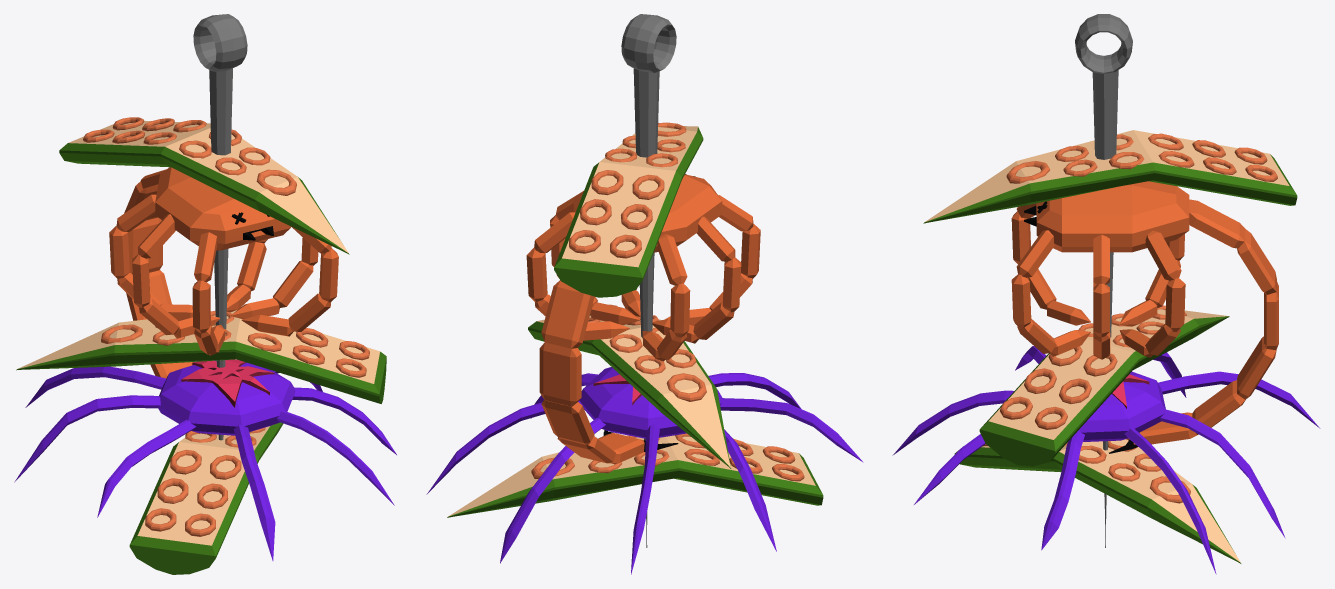
The model's file is SpaceFood.fbx.
3 renders of one model, left to right at view 1: azimuth 30°, elevation 25°; view 2: azimuth 150°, elevation 25°; view 3: azimuth 270°, elevation 25°, orthographic.
Visible parts, largest first — view 1: Cube.005; view 2: Cube.005; view 3: Cube.005.
Part boxes in pixels (bbox=[...]): Cube.005: bbox=[14, 14, 396, 574]; Cube.005: bbox=[426, 14, 863, 574]; Cube.005: bbox=[892, 14, 1320, 574].
Bounding box in the file's own units: 1655 × 1828 × 2493.
